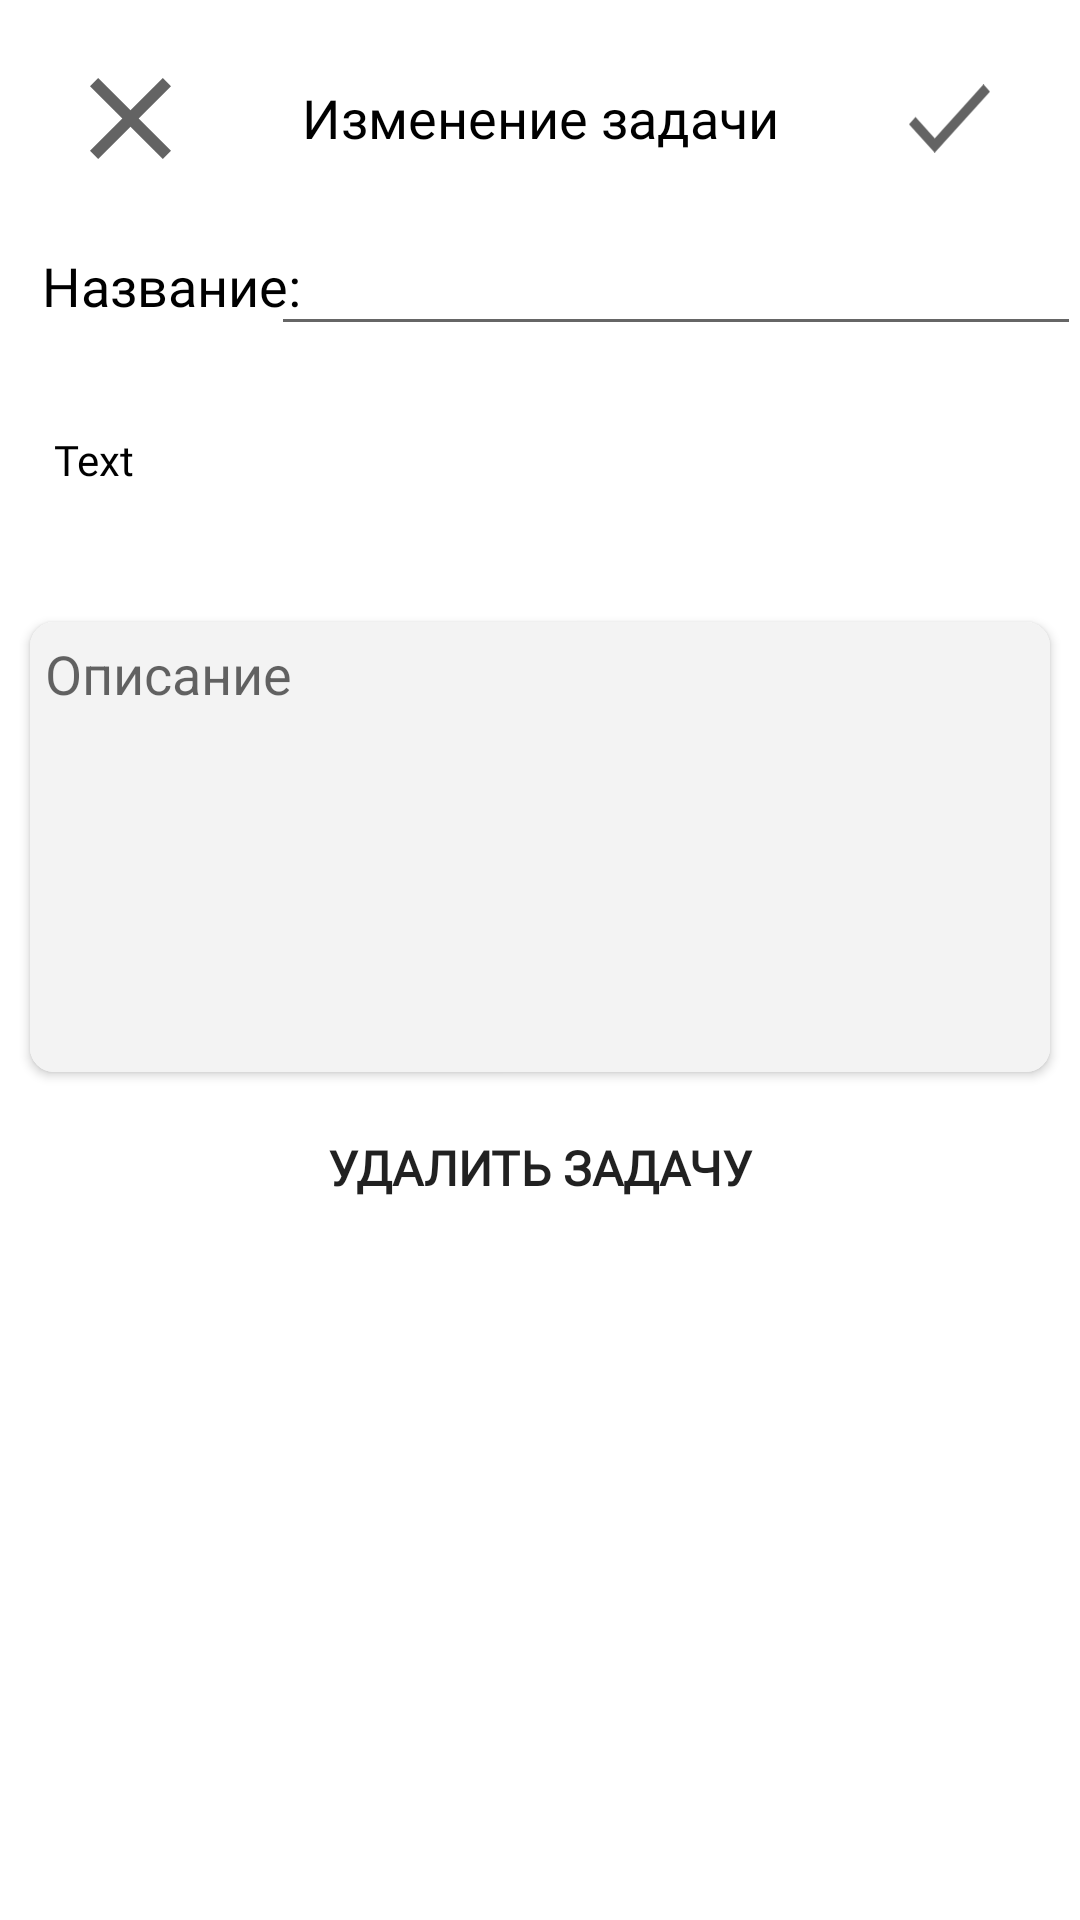

Locate icon controls on the screen. Image size 1080 x 1920, boxes as (x1, y1, x2, y2).
accept: (909, 84, 990, 153)
cancel: (90, 78, 171, 159)
